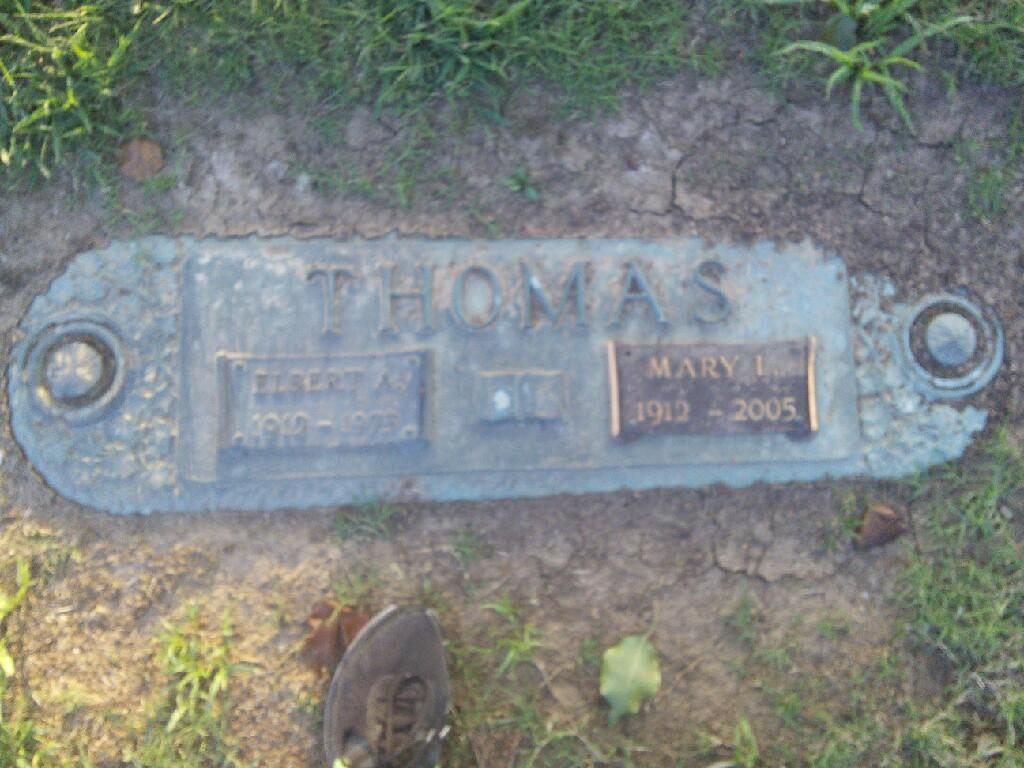flat: (6, 230, 1010, 517)
